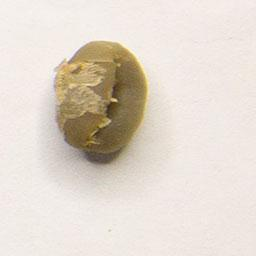peaberry: (50, 36, 151, 157)
